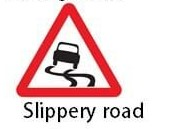Traffic signal: (16, 3, 122, 97)
